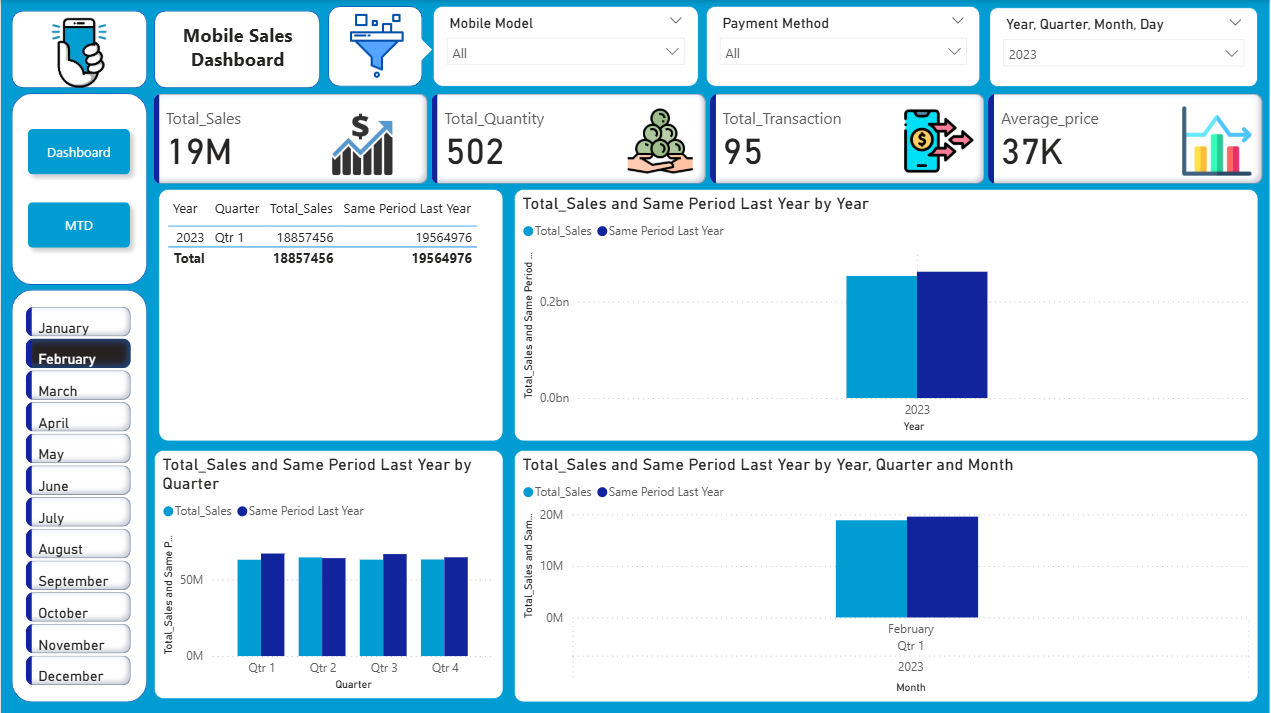

This screenshot's page, from the dashboard's own definition file:
{"tool":"powerbi","page":{"name":"Same Period Last Year","canvas":[1280,720],"ordinal":2},"visuals":[{"type":"shape","box":[10.8,10.8,136.9,78.5],"z":0},{"type":"image","box":[27.7,0,103.1,106.2],"z":1000},{"type":"shape","box":[10.8,93.8,136.9,193.8],"z":2000},{"type":"cardVisual","fields":{"Data":["Sales_Data.Total_Sales","Sales_Data.Total_Quantity","Sales_Data.Total_Transaction","Sales_Data.Average_price"]},"box":[148.4,89.3,1131.1,101.5],"z":3000},{"type":"slicer","fields":{"Values":["Sales_Data.Mobile Model"]},"box":[435.4,6.2,267.7,81.5],"z":4000},{"type":"slicer","fields":{"Values":["Sales_Data.Payment Method"]},"box":[712.3,6.2,276.9,81.5],"z":5000},{"type":"slicer","fields":{"Values":["Custom_Calender.Date.Variation.Date Hierarchy.Year","Custom_Calender.Date.Variation.Date Hierarchy.Quarter","Custom_Calender.Date.Variation.Date Hierarchy.Month","Custom_Calender.Date.Variation.Date Hierarchy.Day"]},"box":[998.5,7.7,270.8,80],"z":6000},{"type":"shape","box":[330.8,6.2,95.4,81.5],"z":7000},{"type":"shape","box":[153.8,10.8,167.7,78.5],"z":8000},{"type":"shape","box":[386.2,36.9,49.2,27.7],"z":9000},{"type":"image","box":[340,7.7,76.9,76.9],"z":10000},{"type":"textbox","box":[158.5,16.9,160,60],"z":11000},{"type":"shape","box":[10.8,292.3,136.9,416.9],"z":13000},{"type":"advancedSlicerVisual","fields":{"Values":["Custom_Calender.Date.Variation.Date Hierarchy.Month"]},"box":[20,304.6,116.9,393.8],"z":14000},{"type":"tableEx","fields":{"Values":["Custom_Calender.Date.Variation.Date Hierarchy.Year","Custom_Calender.Date.Variation.Date Hierarchy.Quarter","Sales_Data.Total_Sales","Sales_Data.Same Period Last Year"]},"box":[159,190.8,348.3,254.4],"z":14001},{"type":"clusteredColumnChart","fields":{"Category":["Custom_Calender.Date.Variation.Date Hierarchy.Year","Custom_Calender.Date.Variation.Date Hierarchy.Quarter"],"Y":["Sales_Data.Total_Sales","Sales_Data.Same Period Last Year"]},"box":[517.9,190.8,751,254.4],"z":14002},{"type":"clusteredColumnChart","fields":{"Category":["Custom_Calender.Date.Variation.Date Hierarchy.Year","Custom_Calender.Date.Variation.Date Hierarchy.Quarter"],"Y":["Sales_Data.Total_Sales","Sales_Data.Same Period Last Year"]},"box":[154.4,454.3,352.8,251.4],"z":14003},{"type":"clusteredColumnChart","fields":{"Y":["Sales_Data.Total_Sales","Sales_Data.Same Period Last Year"],"Category":["Custom_Calender.Date.Variation.Date Hierarchy.Year","Custom_Calender.Date.Variation.Date Hierarchy.Quarter","Custom_Calender.Date.Variation.Date Hierarchy.Month","Custom_Calender.Date.Variation.Date Hierarchy.Day"]},"box":[517.9,454.3,751,254.4],"z":14004},{"type":"pageNavigator","box":[18.2,121.1,121.1,139.3],"z":14005}]}

Visuals, with their boxes in screenshot pixels (x1, y1, x2, y2), scaled from the page's 1280x720 canvas onto the 1271x713 screenshot:
shape: l=11, t=11, r=147, b=88
image: l=28, t=0, r=130, b=105
shape: l=11, t=93, r=147, b=285
cardVisual - Sales_Data.Total_Sales x Sales_Data.Total_Quantity: l=147, t=88, r=1270, b=189
slicer - Sales_Data.Mobile Model: l=432, t=6, r=698, b=87
slicer - Sales_Data.Payment Method: l=707, t=6, r=982, b=87
slicer - Custom_Calender.Date.Variation.Date Hierarchy.Year x Custom_Calender.Date.Variation.Date Hierarchy.Quarter: l=991, t=8, r=1260, b=87
shape: l=328, t=6, r=423, b=87
shape: l=153, t=11, r=319, b=88
shape: l=383, t=37, r=432, b=64
image: l=338, t=8, r=414, b=84
textbox: l=157, t=17, r=316, b=76
shape: l=11, t=289, r=147, b=702
advancedSlicerVisual - Custom_Calender.Date.Variation.Date Hierarchy.Month: l=20, t=302, r=136, b=692
tableEx - Custom_Calender.Date.Variation.Date Hierarchy.Year x Custom_Calender.Date.Variation.Date Hierarchy.Quarter: l=158, t=189, r=504, b=441
clusteredColumnChart - Custom_Calender.Date.Variation.Date Hierarchy.Year x Custom_Calender.Date.Variation.Date Hierarchy.Quarter: l=514, t=189, r=1260, b=441
clusteredColumnChart - Custom_Calender.Date.Variation.Date Hierarchy.Year x Custom_Calender.Date.Variation.Date Hierarchy.Quarter: l=153, t=450, r=504, b=699
clusteredColumnChart - Sales_Data.Total_Sales x Sales_Data.Same Period Last Year: l=514, t=450, r=1260, b=702
pageNavigator: l=18, t=120, r=138, b=258
